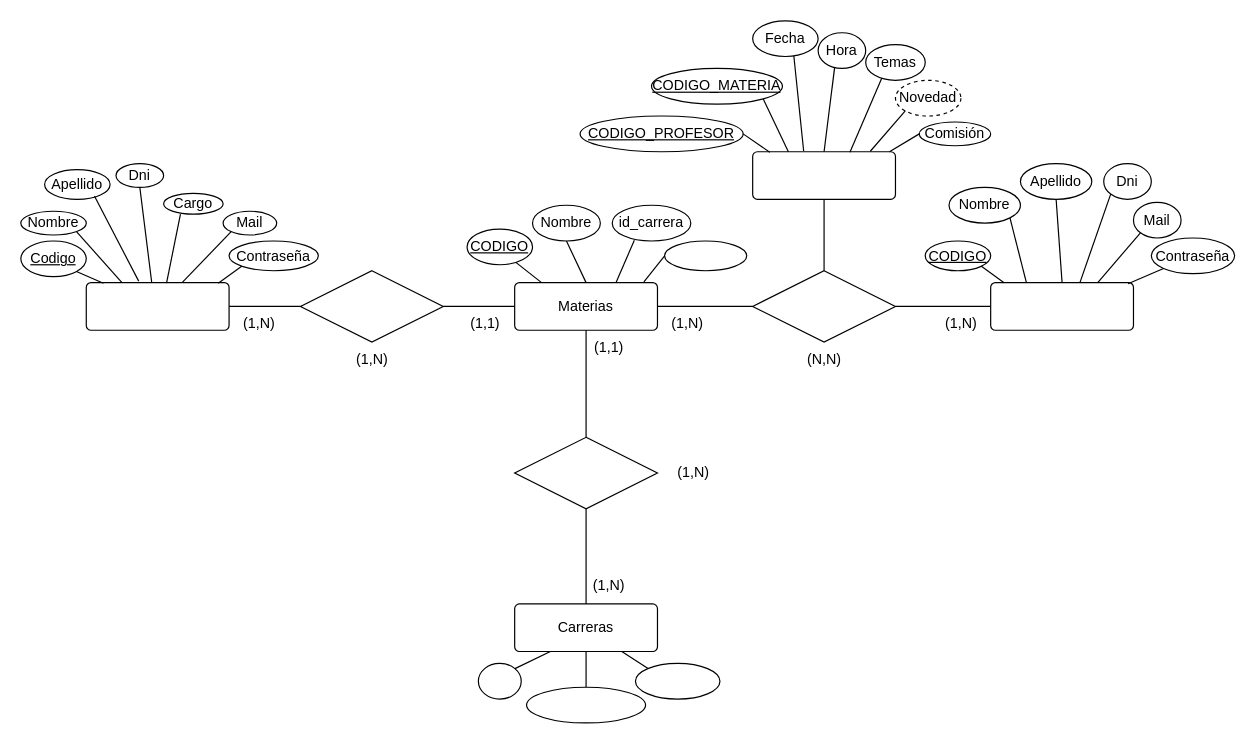
The diagram is 1255 pixels wide and 744 high, and some of its shapes have lost their labels. Here are the shapes that lost their labels. From the top down, the box of each, then its label:
(751, 151, 895, 199): Clases
(663, 240, 747, 271): codigo_adm
(85, 281, 229, 330): Administradores
(989, 281, 1133, 330): Profesores
(477, 662, 521, 699): ID
(634, 662, 720, 699): Descripcion
(525, 686, 646, 723): Tituto_abreviado
